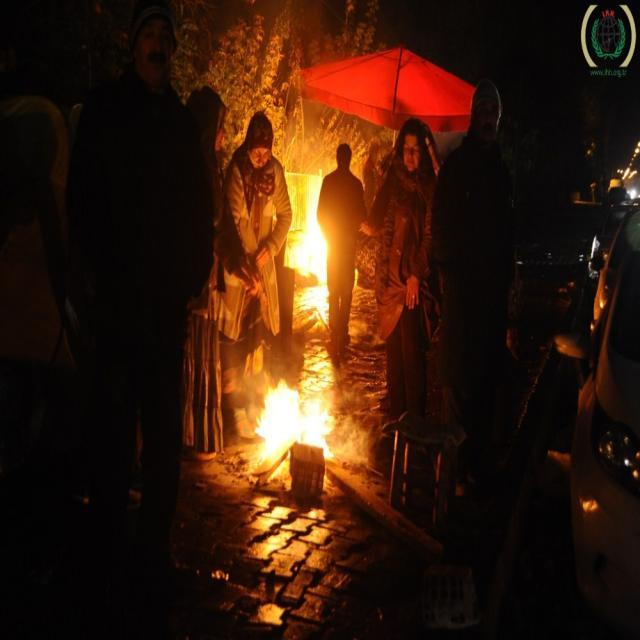Fire: (254, 378, 324, 451), (296, 182, 328, 294)
